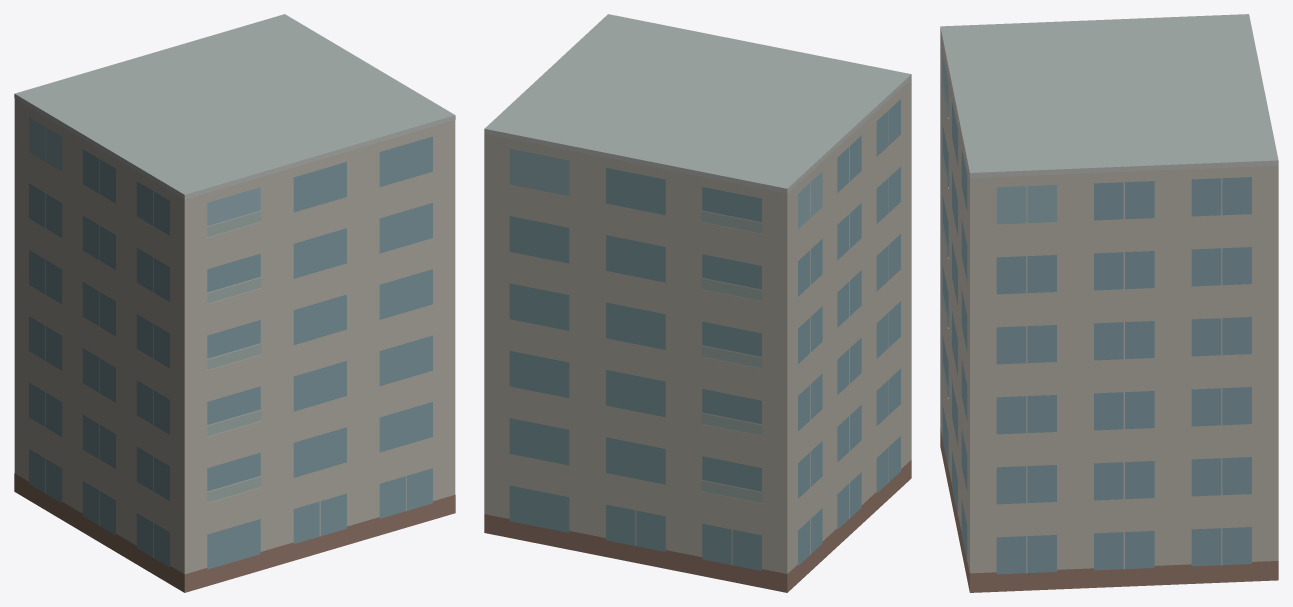
The model's file is survey-upis-32739604.glb.
3 views of the same model, side by side, from view 1: azimuth 30°, elevation 25°; view 2: azimuth 150°, elevation 25°; view 3: azimuth 270°, elevation 25° (orthographic). The views are drawn at different scales.
Parts seen in each view (by area): view 1: survey-upis-32739604.tmp; view 2: survey-upis-32739604.tmp; view 3: survey-upis-32739604.tmp.
Part boxes in pixels (x1,y1,x2,y2): survey-upis-32739604.tmp: (14,14,455,592); survey-upis-32739604.tmp: (484,14,911,592); survey-upis-32739604.tmp: (940,14,1278,592).
Bounding box in the file's own units: 16.41 × 20.2 × 14.76.
